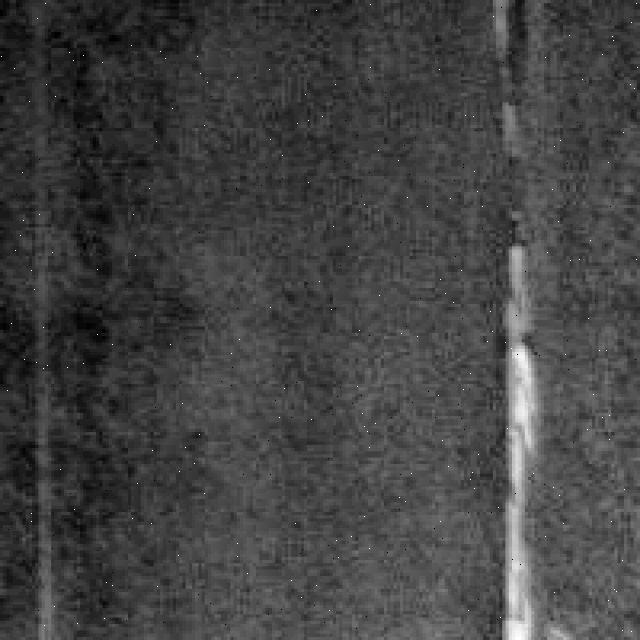Inclusion: (499, 240, 554, 637)
